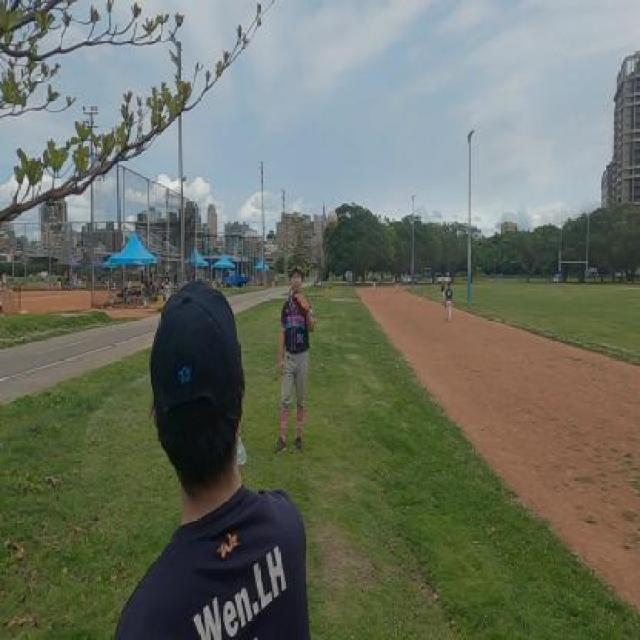baseball: (327, 210, 338, 232)
